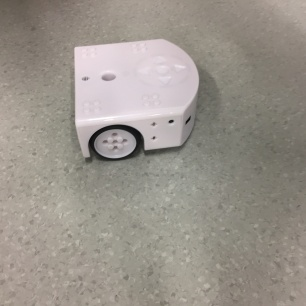thymio: (64, 37, 202, 162)
